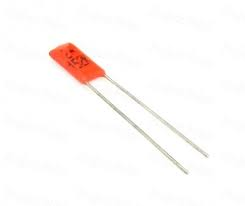ceramic capacitor: (31, 33, 128, 112)
